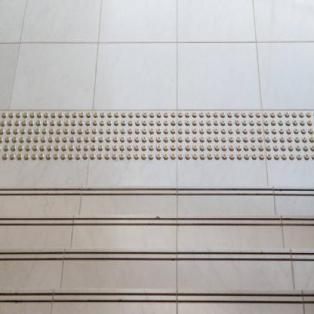Podoctatil: (0, 109, 312, 163)
